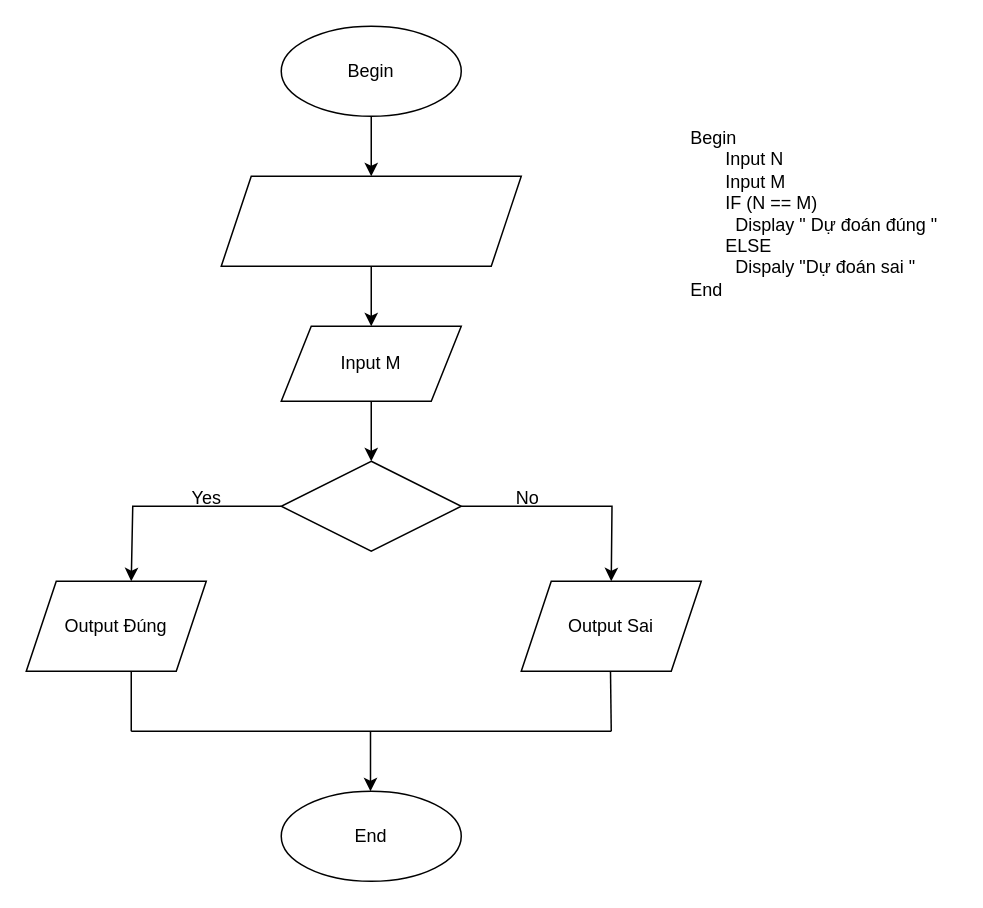
This 983x908 diagram has some shape labels left out. The box of each missing label's shape, as (x1, y1, x2, y2) in pixels:
Input N ngẫu nhiên từ 0 đến 9: (220, 175, 521, 266)
N == M: (280, 460, 461, 551)
